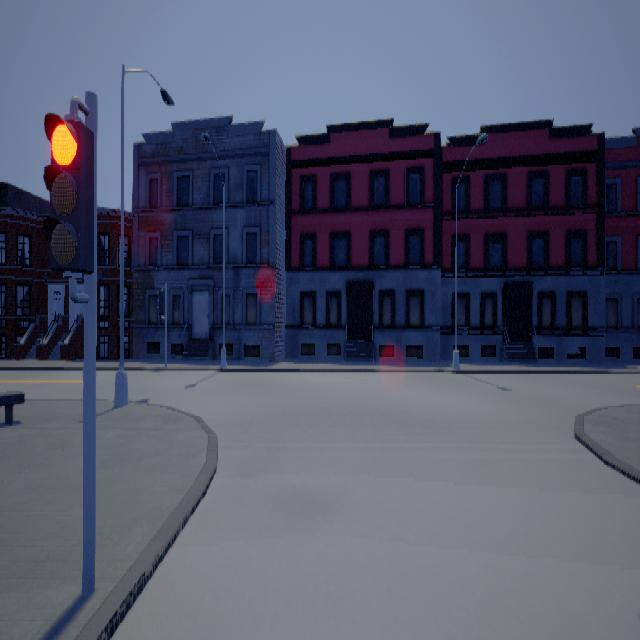red_light: (44, 95, 95, 302)
